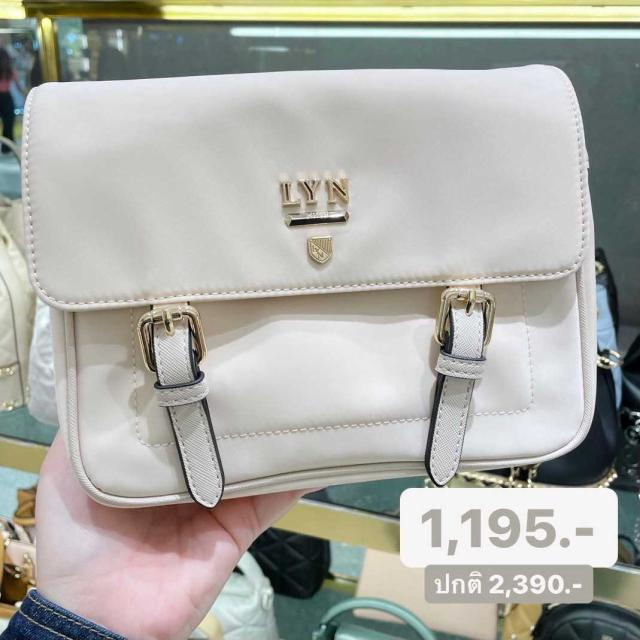Handbag: (23, 62, 598, 513)
